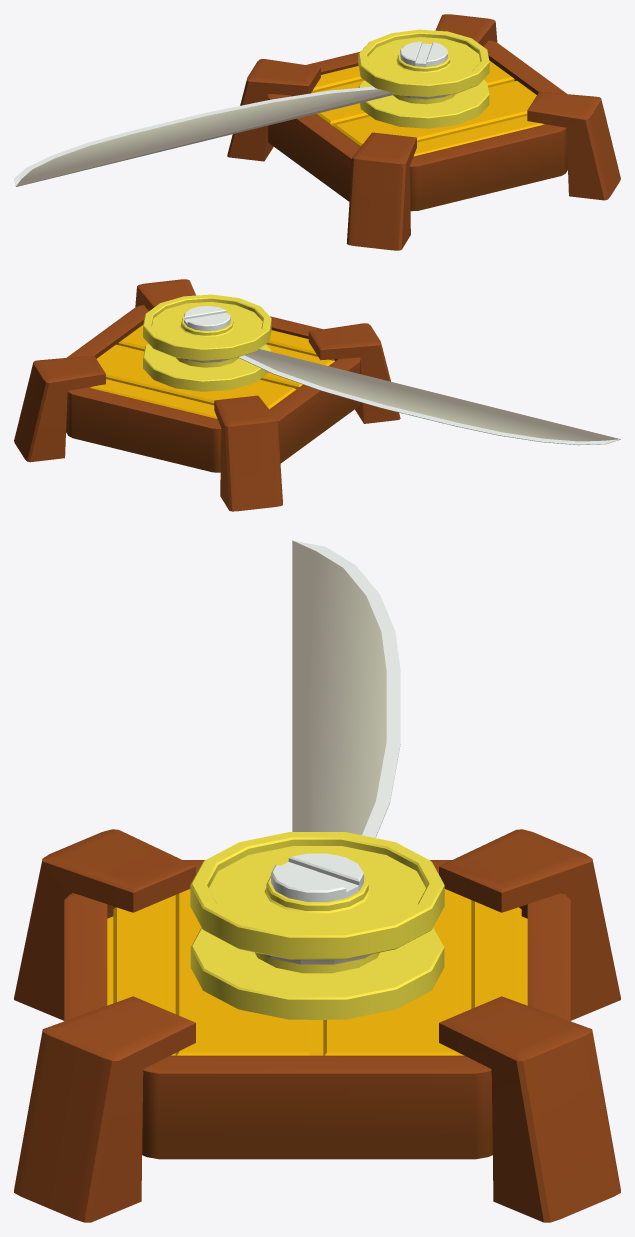
File: island2-knife1 (2).fbx
3 views of the same model, one above another, from view 1: azimuth 30°, elevation 25°; view 2: azimuth 150°, elevation 25°; view 3: azimuth 270°, elevation 25° (orthographic). The views are drawn at different scales.
Parts seen in each view (by area): view 1: knife-model1, knife-model1.01; view 2: knife-model1, knife-model1.01; view 3: knife-model1, knife-model1.01.
Part boxes in pixels (x1,y1,x2,y2): knife-model1: [227, 14, 620, 250]; knife-model1.01: [14, 86, 449, 186]; knife-model1: [14, 279, 400, 511]; knife-model1.01: [182, 349, 620, 445]; knife-model1: [14, 829, 620, 1222]; knife-model1.01: [262, 540, 400, 964].
Size of the model in its own units: 8.07 by 1.63 by 4.01.
1 material, 1 textured.
